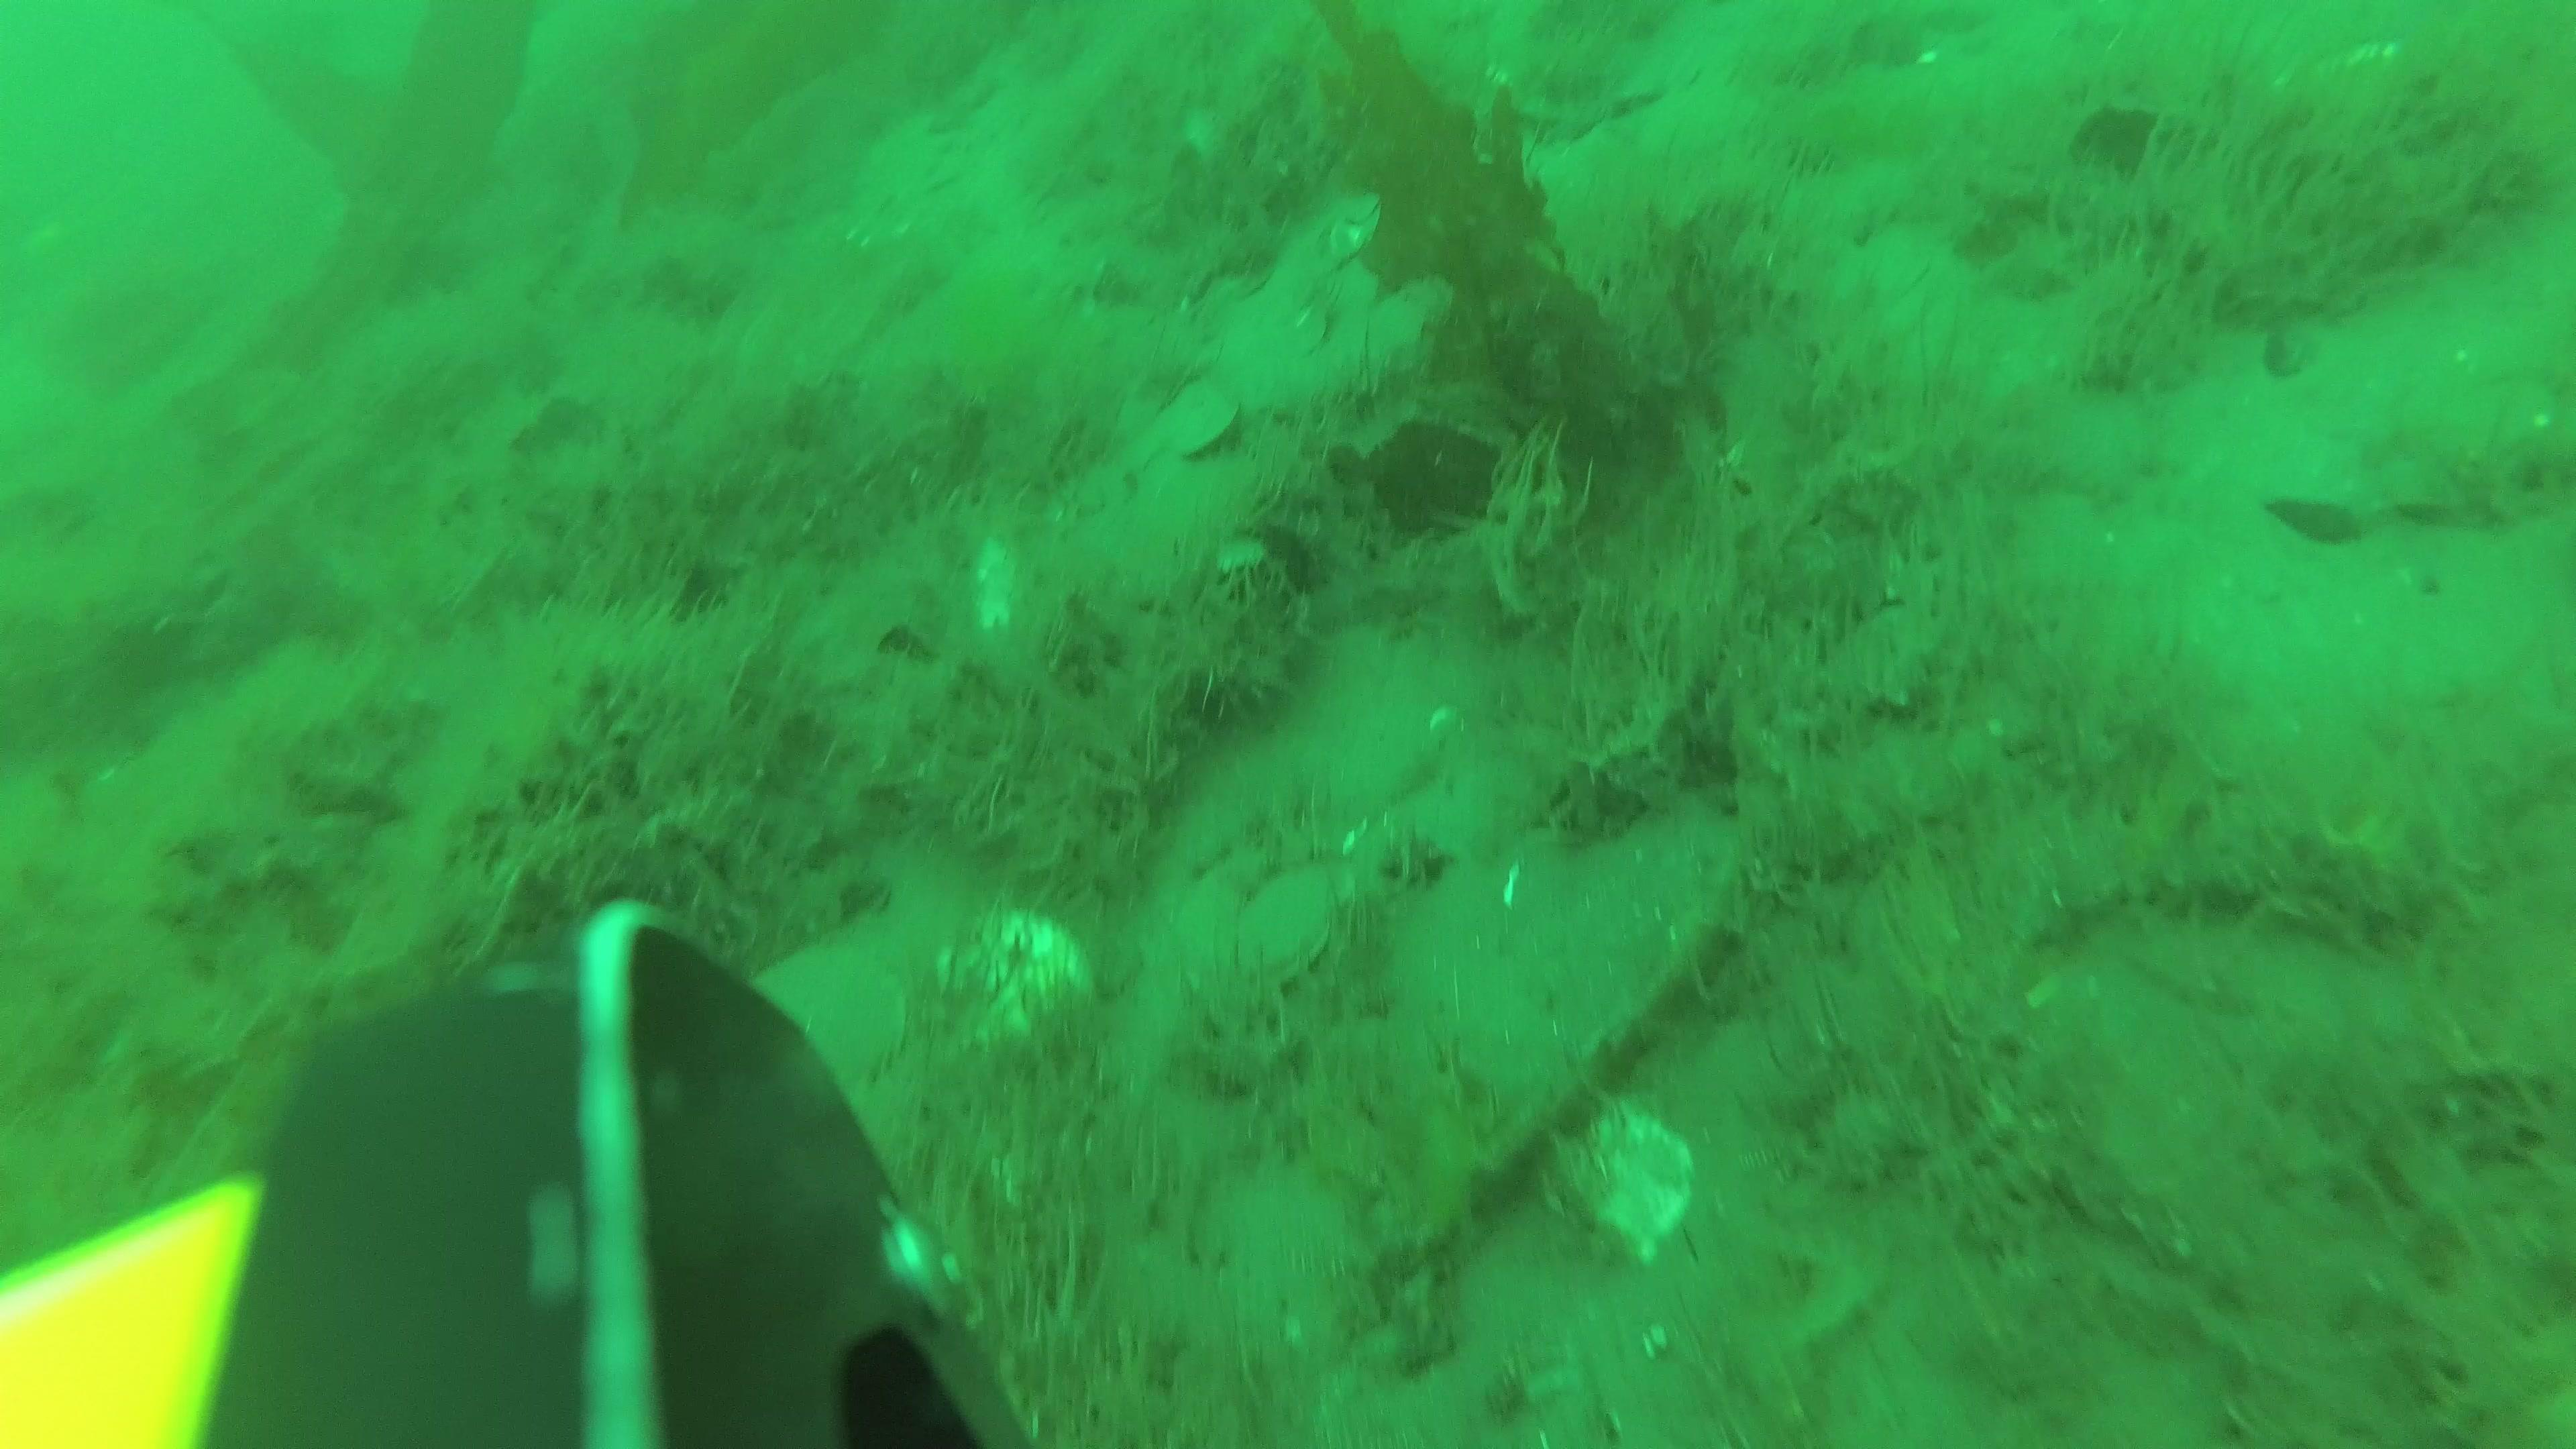scallop: (1534, 1085, 1691, 1258), (1175, 846, 1334, 998), (948, 916, 1076, 1035), (968, 533, 1040, 649)
